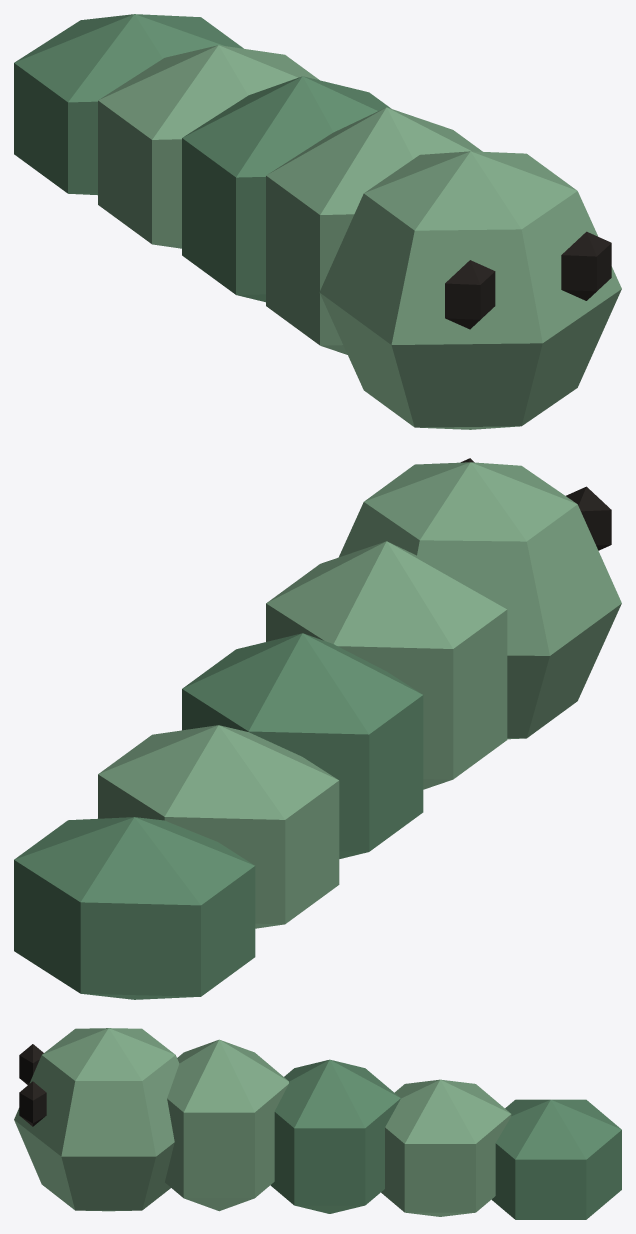
File: bookworm.glb
3 renders of one model, top to bottom at view 1: azimuth 30°, elevation 25°; view 2: azimuth 150°, elevation 25°; view 3: azimuth 270°, elevation 25°, orthographic. The views are drawn at different scales.
Parts seen in each view (by area): view 1: Body_mesh, Head_mesh; view 2: Body_mesh, Head_mesh; view 3: Body_mesh, Head_mesh.
Boxes of the visible parts, x1=… form: Body_mesh: x1=14, y1=14, x2=482, y2=354; Head_mesh: x1=319, y1=151, x2=621, y2=429; Body_mesh: x1=14, y1=541, x2=507, y2=999; Head_mesh: x1=339, y1=458, x2=621, y2=739; Body_mesh: x1=165, y1=1039, x2=621, y2=1219; Head_mesh: x1=14, y1=1028, x2=179, y2=1211.
Size of the model in its own units: 0.0554 by 0.067 by 0.1925.
